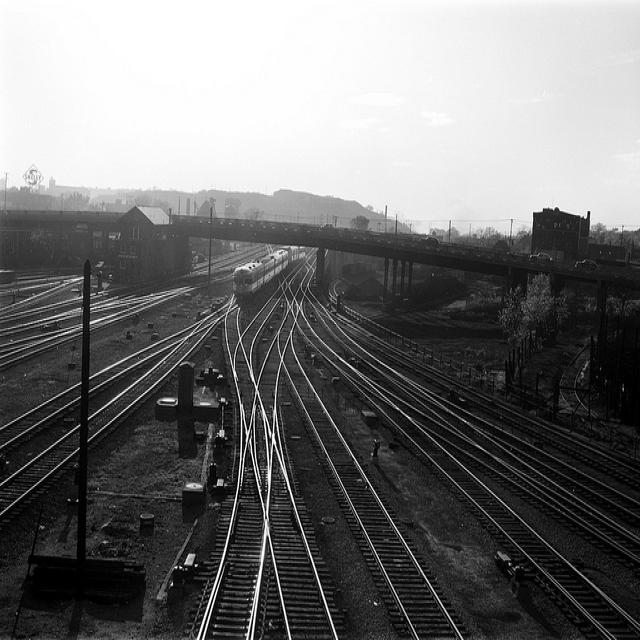Vehicle: (574, 258, 600, 271), (529, 252, 553, 262), (320, 223, 338, 230), (421, 238, 440, 244)
